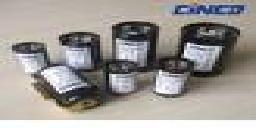Electrolytic Capacitor: (31, 63, 108, 124), (180, 18, 239, 78), (152, 52, 199, 97), (111, 19, 159, 60), (104, 58, 149, 98), (58, 31, 105, 68), (10, 39, 53, 69)
